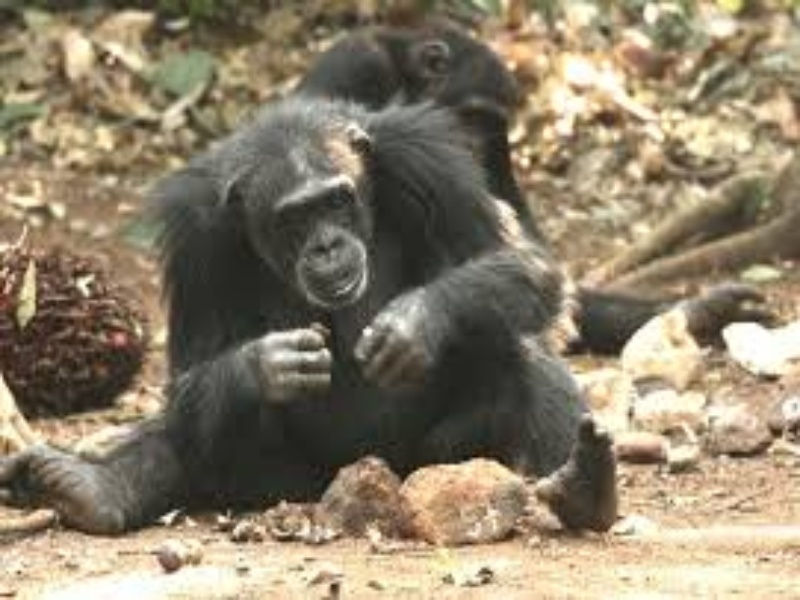monkey: (124, 22, 643, 547)
